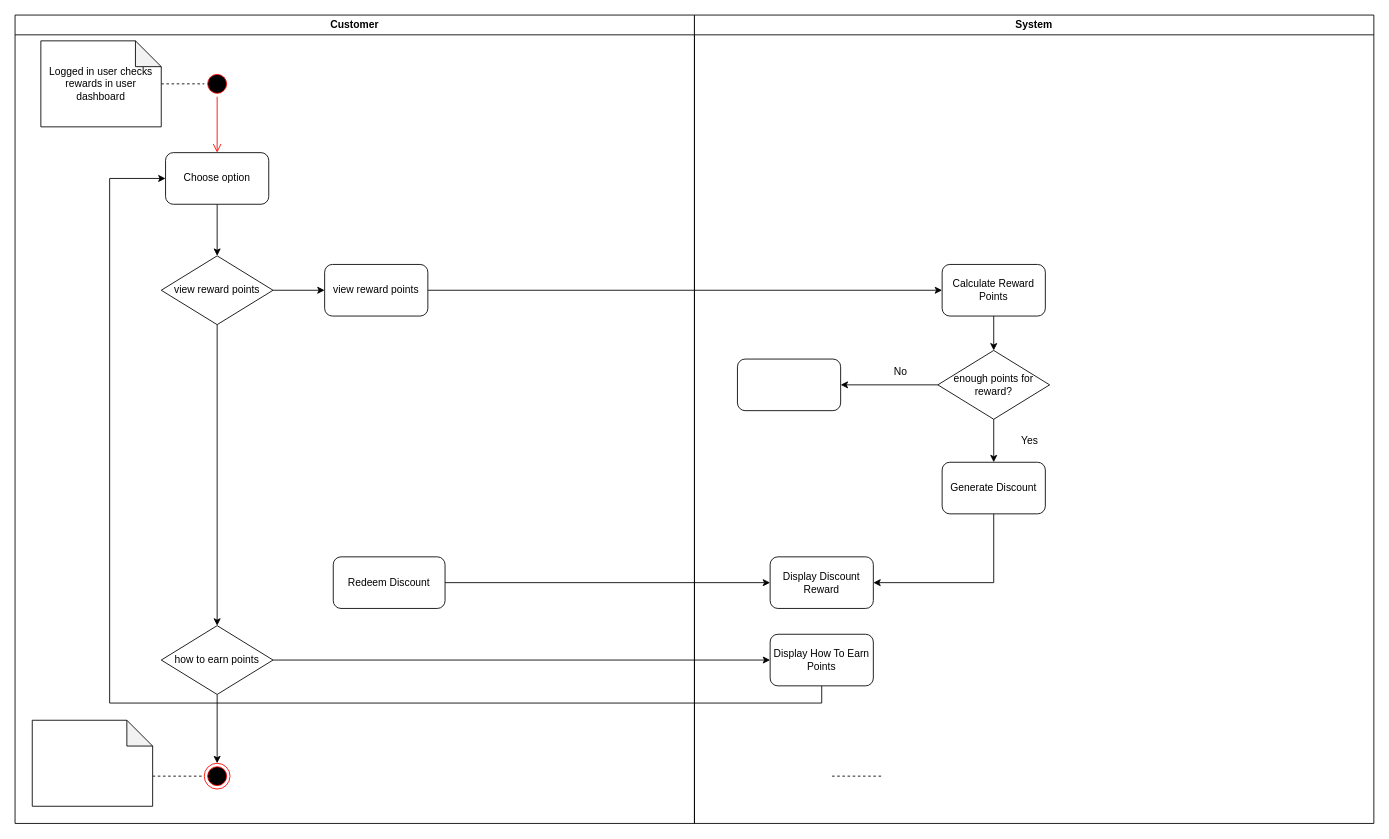
The diagram is 1389 pixels wide and 839 high, and some of its shapes have lost their labels. The shapes that lost their labels are listed below. From the top down, each one's centre as x and y in pixels, then its label:
At (x=789, y=384): "Display Reward Points".
At (x=92, y=762): "Logged in user is redirected to dashboard".
